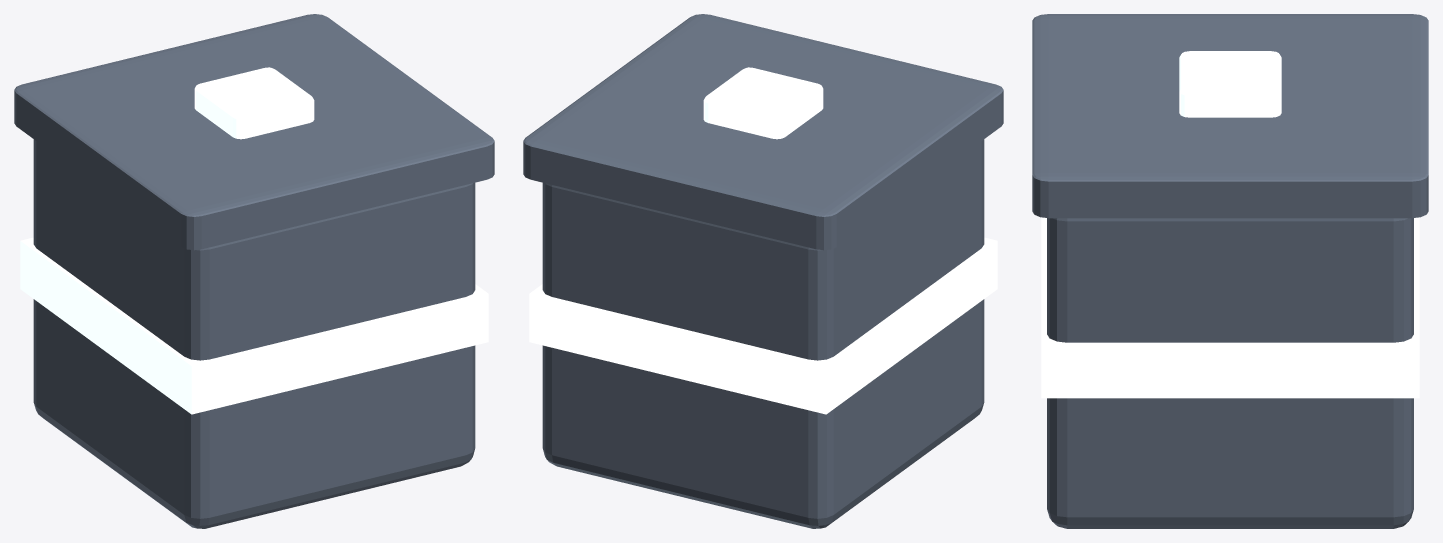
The model's file is Bonus.fbx.
The picture shows the model from 3 angles, left to right: view 1: azimuth 30°, elevation 25°; view 2: azimuth 150°, elevation 25°; view 3: azimuth 270°, elevation 25°; orthographic projection. The views are drawn at different scales.
Parts seen in each view (by area): view 1: Crate, Lid, Band, Beacon; view 2: Crate, Lid, Band, Beacon; view 3: Crate, Lid, Band, Beacon.
Part boxes in pixels (bbox=[...]): Crate: bbox=[33, 139, 475, 528]; Lid: bbox=[14, 14, 494, 250]; Band: bbox=[20, 237, 488, 414]; Beacon: bbox=[194, 67, 314, 139]; Crate: bbox=[542, 139, 984, 528]; Lid: bbox=[523, 14, 1003, 250]; Band: bbox=[529, 237, 997, 414]; Beacon: bbox=[703, 67, 823, 139]; Crate: bbox=[1047, 218, 1413, 528]; Lid: bbox=[1032, 14, 1428, 218]; Band: bbox=[1041, 217, 1419, 398]; Beacon: bbox=[1179, 51, 1281, 117].
Size of the model in its own units: 0.3888 by 0.42 by 0.3888.
